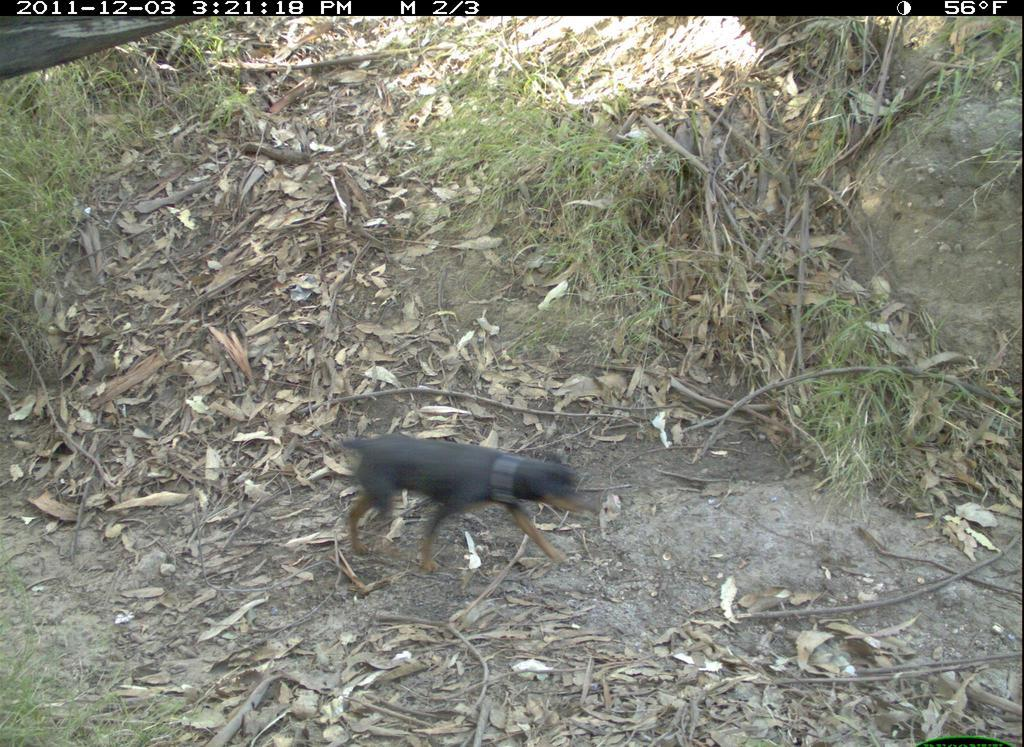dog: (321, 419, 601, 581)
